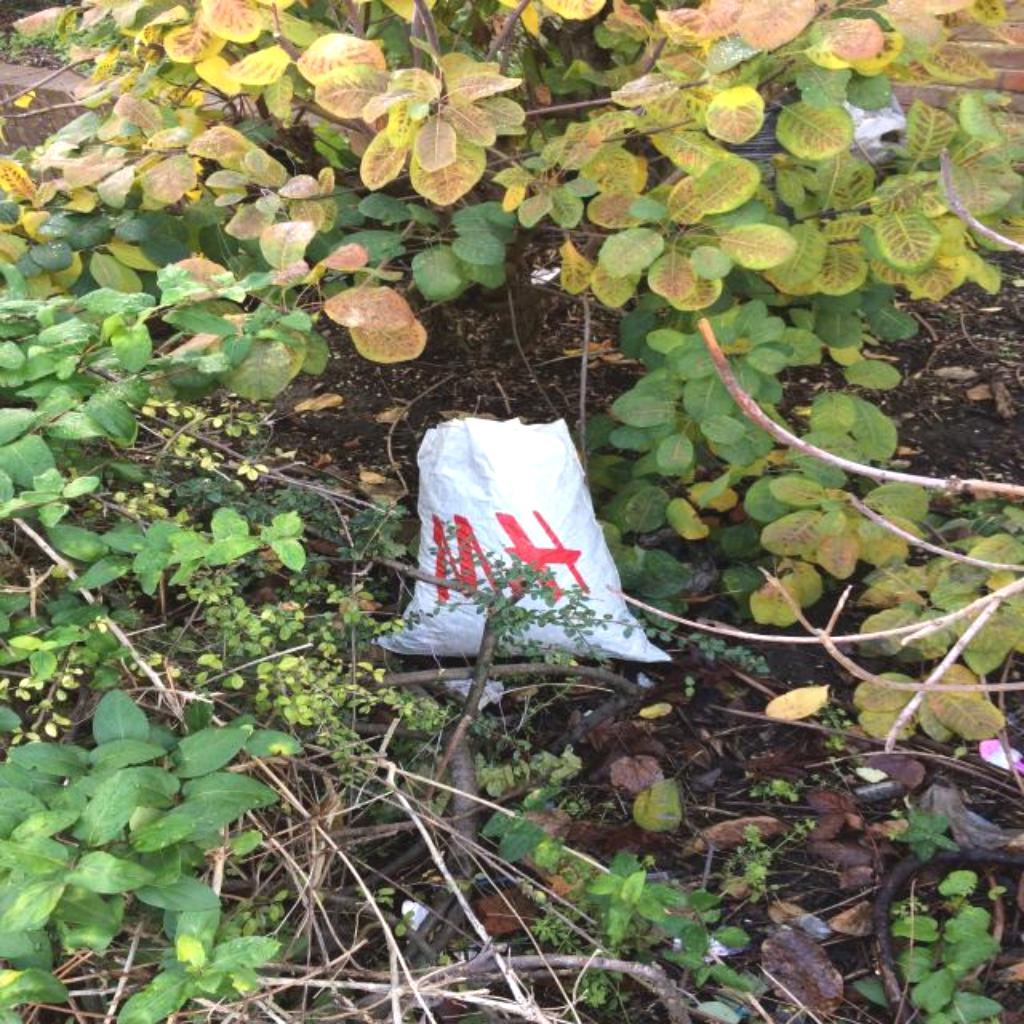garbage: (386, 418, 673, 665)
